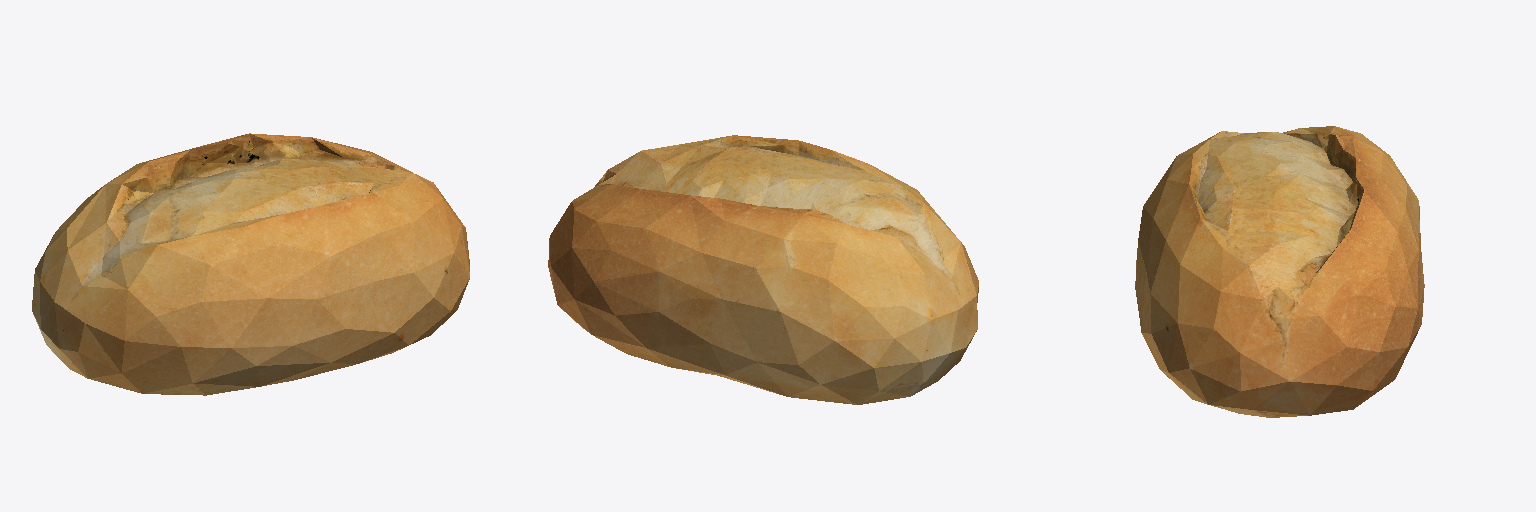
The picture shows the model from 3 angles: view 1: azimuth 30°, elevation 25°; view 2: azimuth 150°, elevation 25°; view 3: azimuth 270°, elevation 25°; orthographic projection.
Visible parts, largest first — view 1: 3DBread007_LQ-1K-JPG; view 2: 3DBread007_LQ-1K-JPG; view 3: 3DBread007_LQ-1K-JPG.
Boxes of the visible parts, x1=… form: 3DBread007_LQ-1K-JPG: x1=32, y1=133, x2=469, y2=395; 3DBread007_LQ-1K-JPG: x1=548, y1=135, x2=978, y2=404; 3DBread007_LQ-1K-JPG: x1=1135, y1=126, x2=1424, y2=417.
Bounding box in the file's own units: 0.1291 × 0.0528 × 0.0813.
Materials: 1 (1 with a texture image).